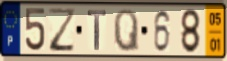5: (24, 7, 47, 53)
6: (153, 9, 172, 53)
8: (179, 7, 202, 55)
Q: (112, 8, 141, 54)
T: (86, 9, 108, 52)
Z: (47, 7, 77, 54)
